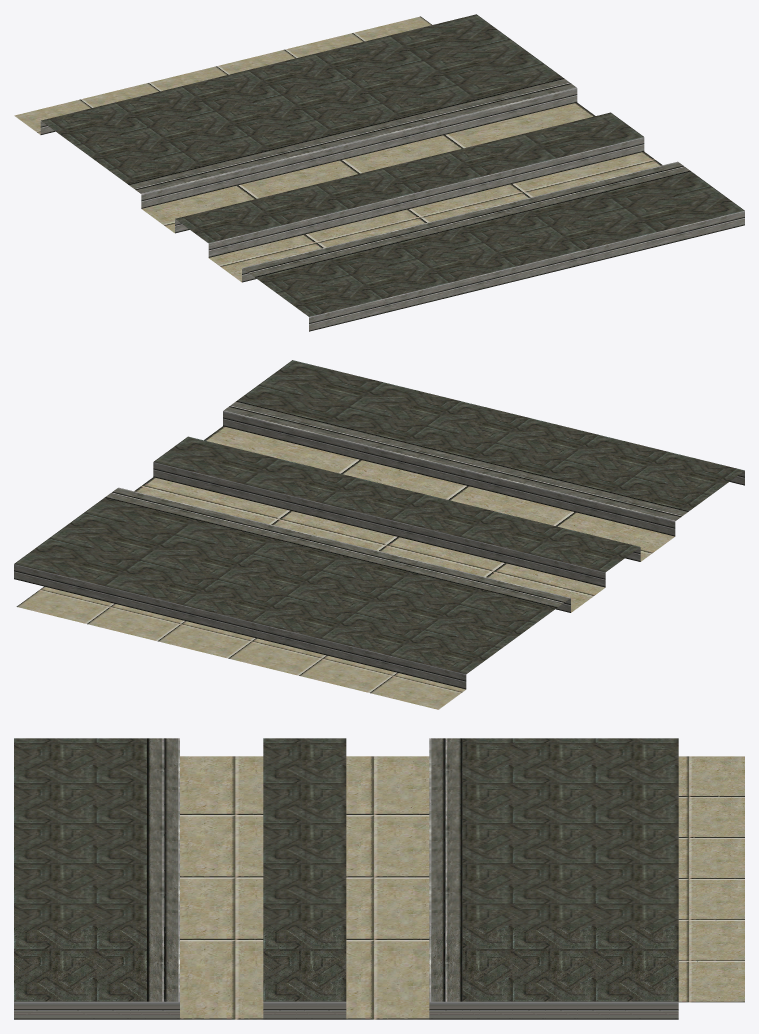
The model's file is DWARF_PALACE_WATER_ROOM_FLOORA.fbx.
3 views of the same model, one above another, from view 1: azimuth 30°, elevation 25°; view 2: azimuth 150°, elevation 25°; view 3: azimuth 270°, elevation 25° (orthographic). The views are drawn at different scales.
Parts seen in each view (by area): view 1: DWARF_PALACE_WATER_ROOM_FLOORA; view 2: DWARF_PALACE_WATER_ROOM_FLOORA; view 3: DWARF_PALACE_WATER_ROOM_FLOORA.
Part boxes in pixels (x1,y1,x2,y2): DWARF_PALACE_WATER_ROOM_FLOORA: (14, 14, 744, 331); DWARF_PALACE_WATER_ROOM_FLOORA: (14, 360, 744, 709); DWARF_PALACE_WATER_ROOM_FLOORA: (14, 738, 744, 1019).
Size of the model in its own units: 187581 by 6024 by 219977.
Materials: 4 (4 with a texture image).
